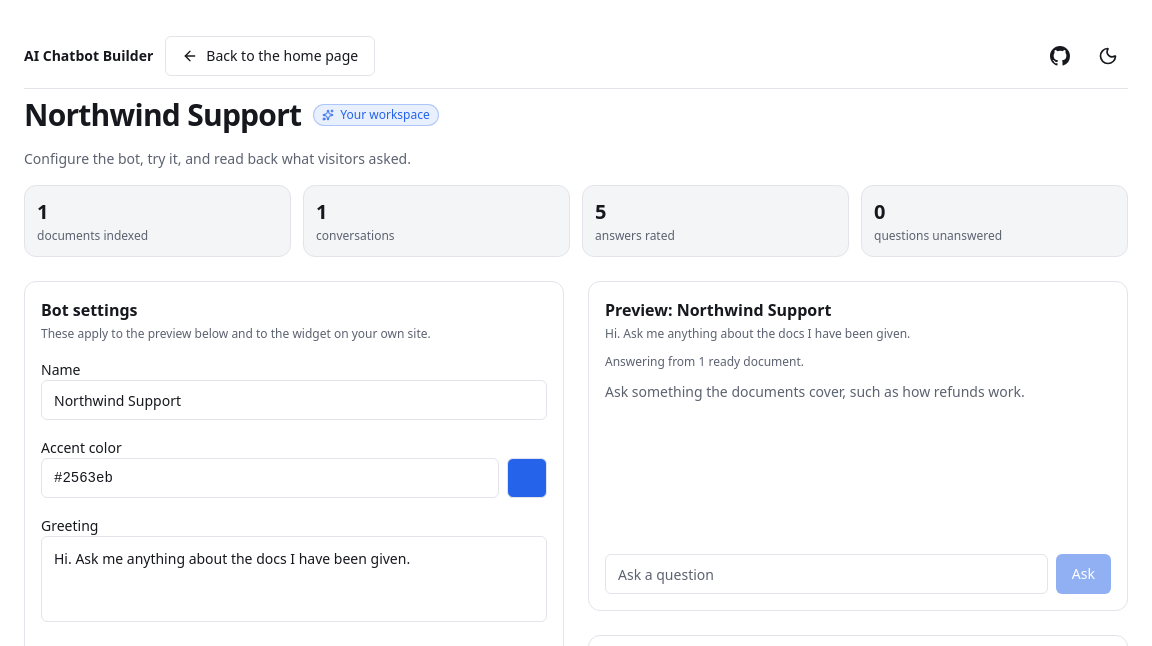
Scenario: 5.2 preview chat › streams an answer and lists its citations
The width and height of the screenshot is (1152, 646).
Expected: the heading "Northwind Support" is shown, [24, 97, 301, 133]
Type "How do refunds work?" into the field named "Ask the bot a question" at (826, 574), box [605, 554, 1048, 594]
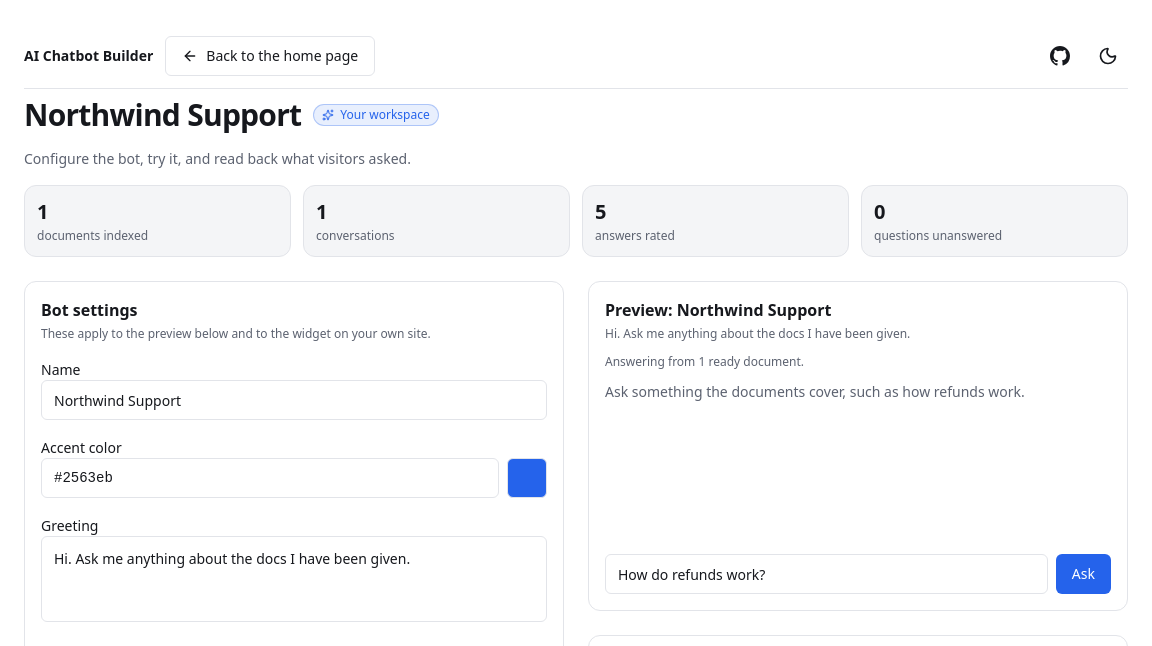
Click the button "Ask" at (1083, 574), box [1056, 554, 1111, 594]
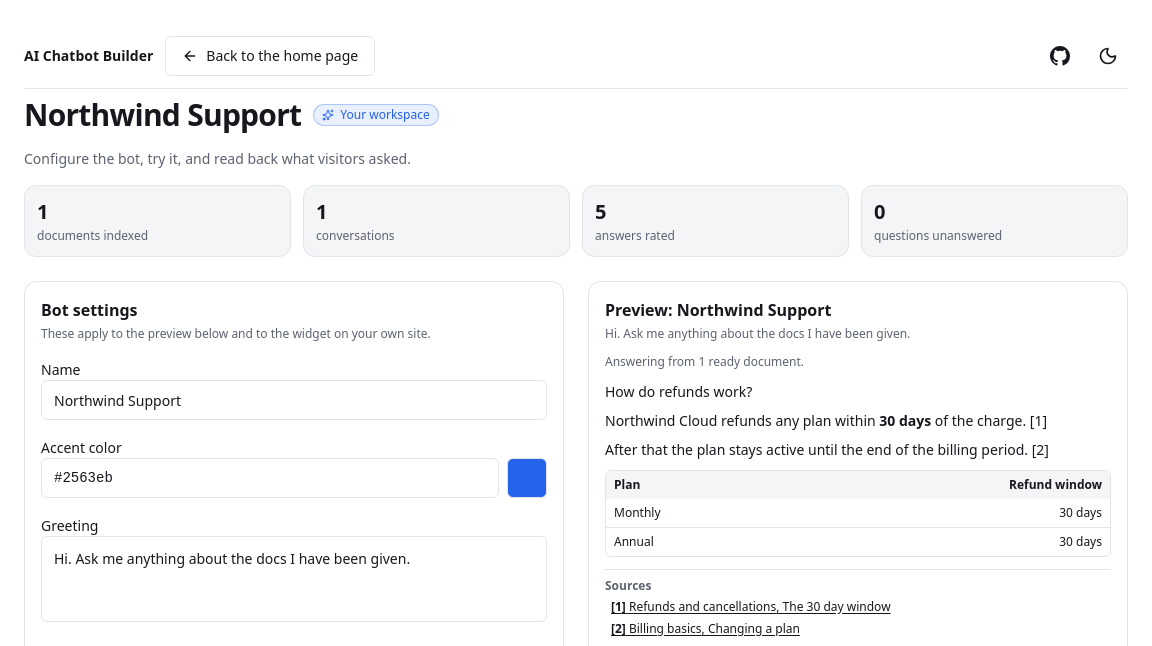
Result: the text "refunds any plan within" is shown at [605, 411, 879, 430]
Result: the text "Sources" is shown at [605, 576, 651, 594]
Result: the button "[1] Refunds and cancellations, The 30 day window" is shown at [605, 598, 897, 616]
